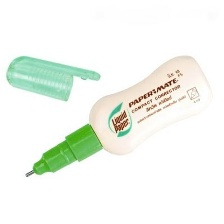correction_fluid: (22, 53, 214, 182)
